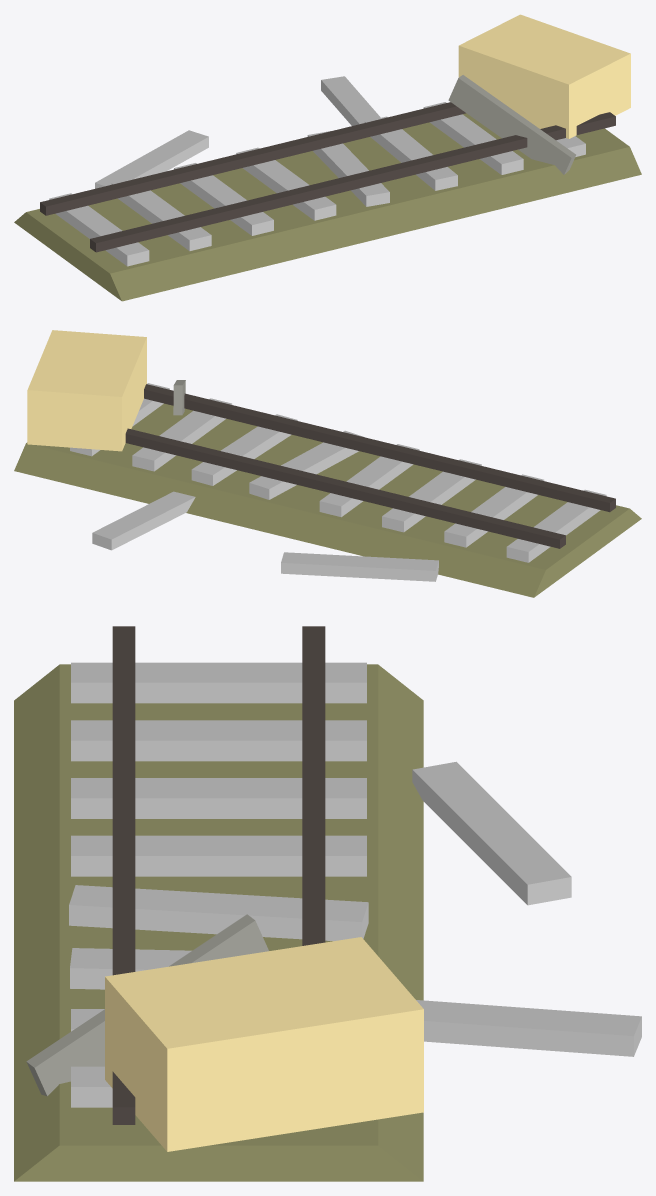
The model's file is SM_Via_Topera_v4_Danada_LOD1.fbx.
The picture shows the model from 3 angles, top to bottom: view 1: azimuth 30°, elevation 25°; view 2: azimuth 150°, elevation 25°; view 3: azimuth 270°, elevation 25°; orthographic projection. The views are drawn at different scales.
Parts seen in each view (by area): view 1: SM_via_trazado_v39_LOD1; view 2: SM_via_trazado_v39_LOD1; view 3: SM_via_trazado_v39_LOD1.
Boxes of the visible parts, box(x1,y1,x2,y2) form: SM_via_trazado_v39_LOD1: box(14, 14, 641, 301); SM_via_trazado_v39_LOD1: box(14, 330, 641, 597); SM_via_trazado_v39_LOD1: box(14, 626, 641, 1181).
Size of the model in its own units: 10.56 by 1.55 by 5.52.
